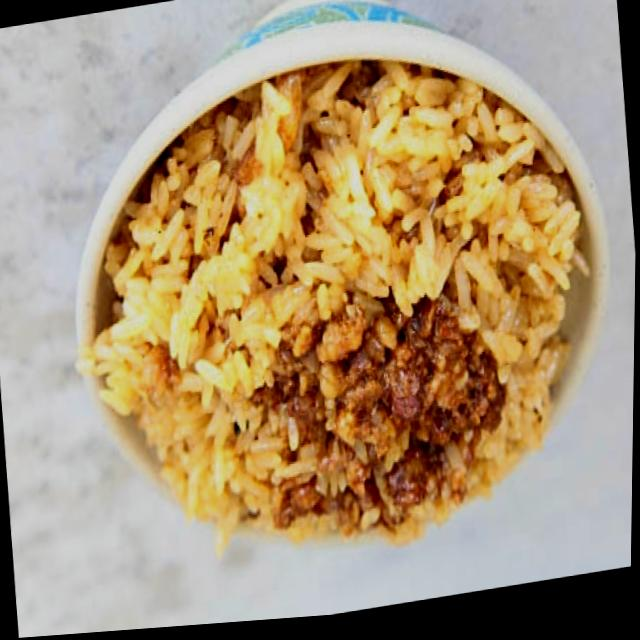米饭主食: (17, 0, 640, 608)
